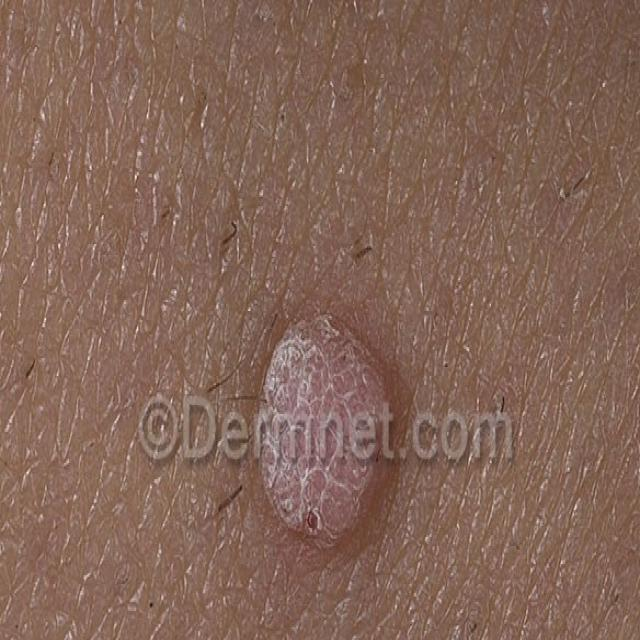Warts: (235, 265, 415, 555)
